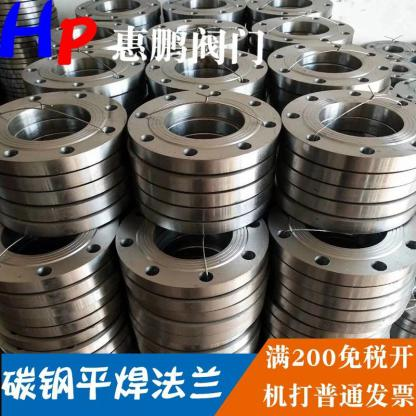FOD: (127, 86, 282, 168)
